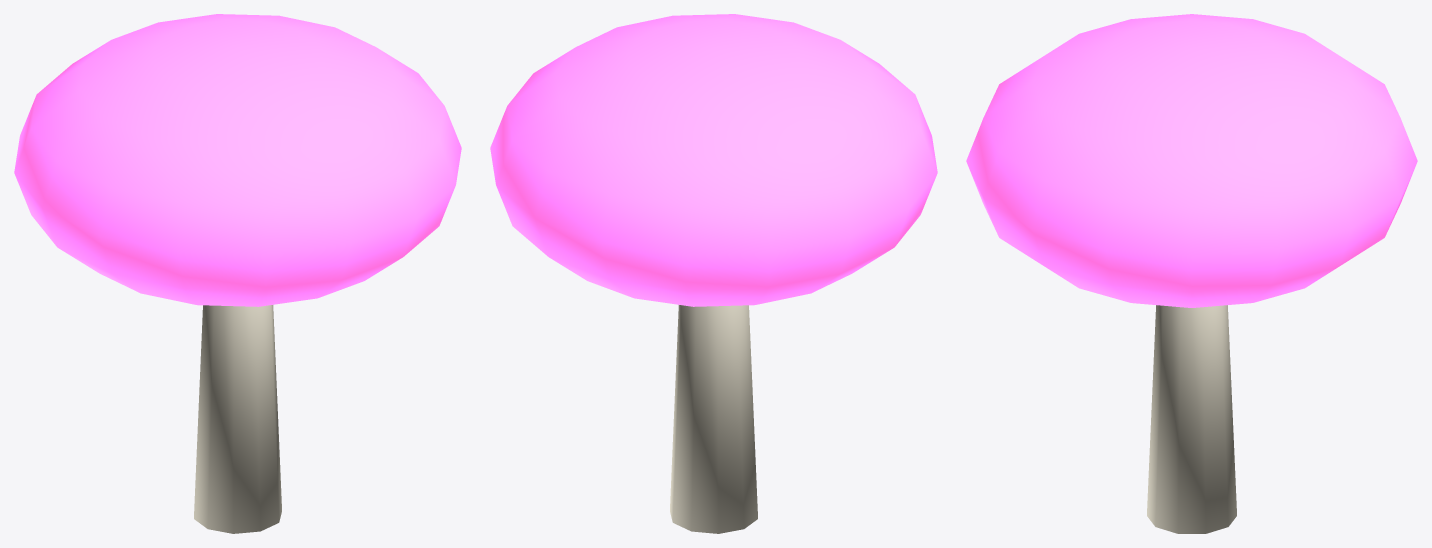
The model's file is mushroom.glb.
3 views of the same model, side by side, from view 1: azimuth 30°, elevation 25°; view 2: azimuth 150°, elevation 25°; view 3: azimuth 270°, elevation 25° (orthographic).
Parts seen in each view (by area): view 1: Mushroom; view 2: Mushroom; view 3: Mushroom.
Boxes of the visible parts, bbox=[...] form: Mushroom: bbox=[14, 14, 461, 533]; Mushroom: bbox=[490, 14, 937, 533]; Mushroom: bbox=[966, 14, 1417, 533].
Size of the model in its own units: 3 by 3.42 by 3.
